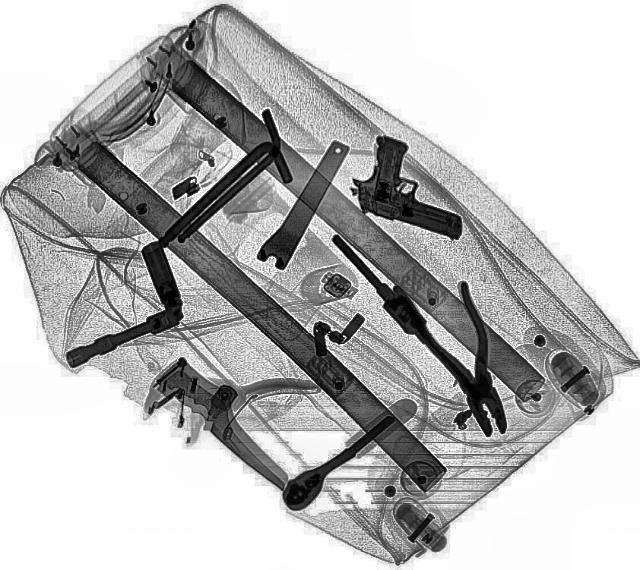Gun: (336, 130, 492, 242)
Pliers: (390, 265, 526, 443)
